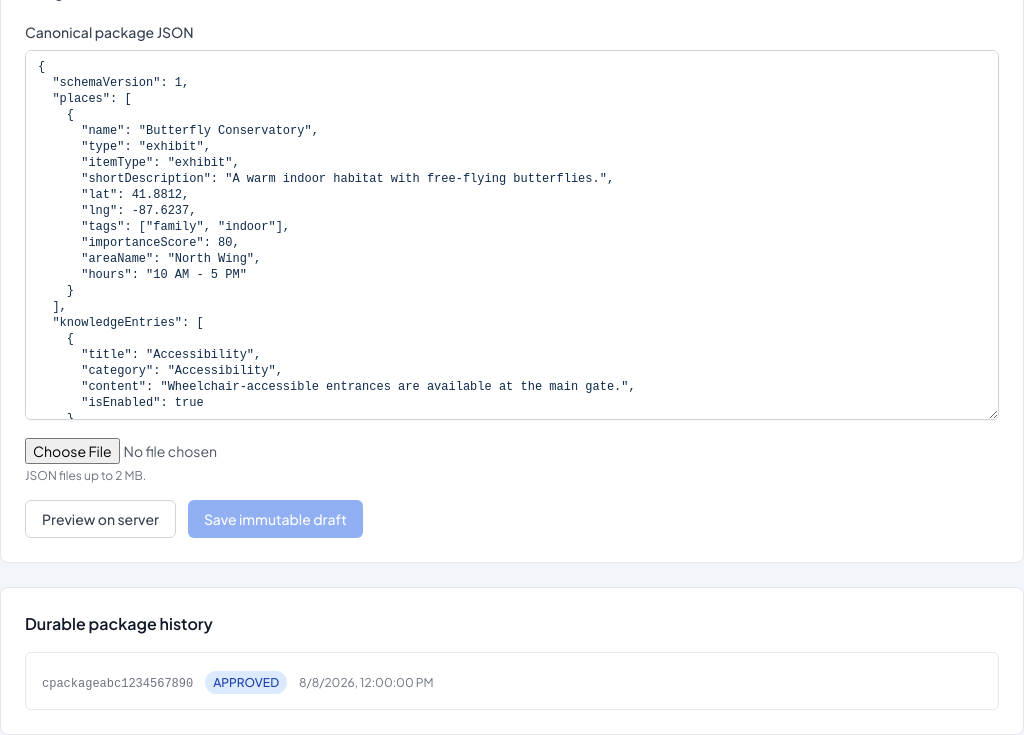
Scenario: venue package workspace › does not infer a conflict refresh from message text alone
(page scrolled)
Click the text "cpackageabc1234567890" at x=118, y=684, box [42,677,193,691]
(page scrolled)
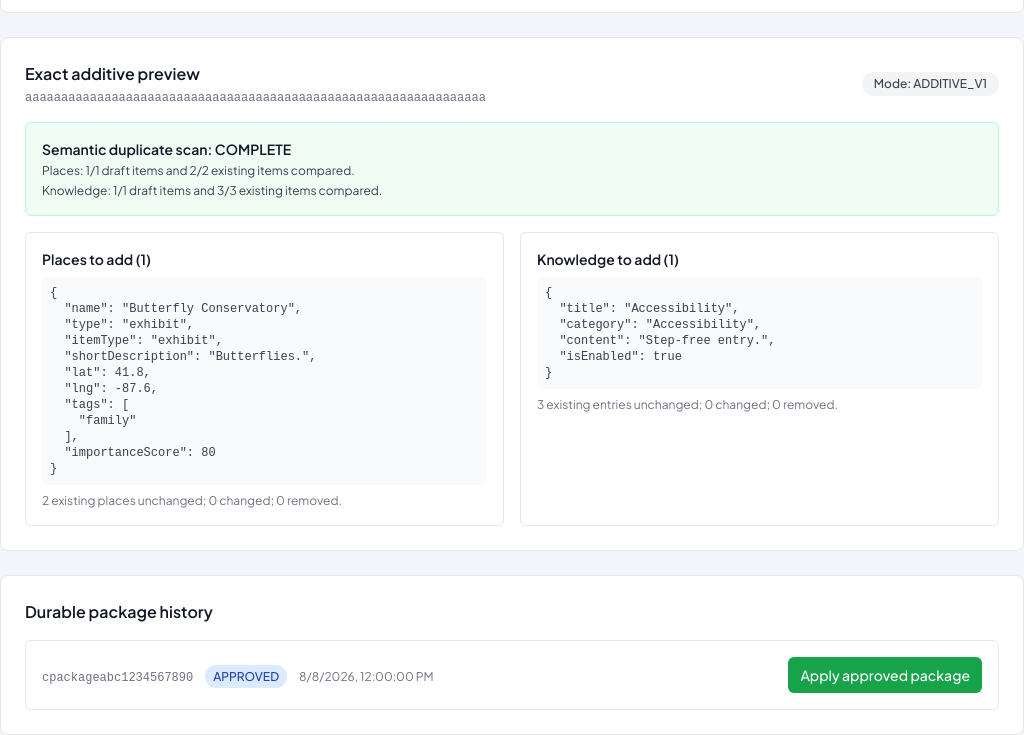
Click the button "Apply approved package" at x=885, y=675, box [788,657,982,693]
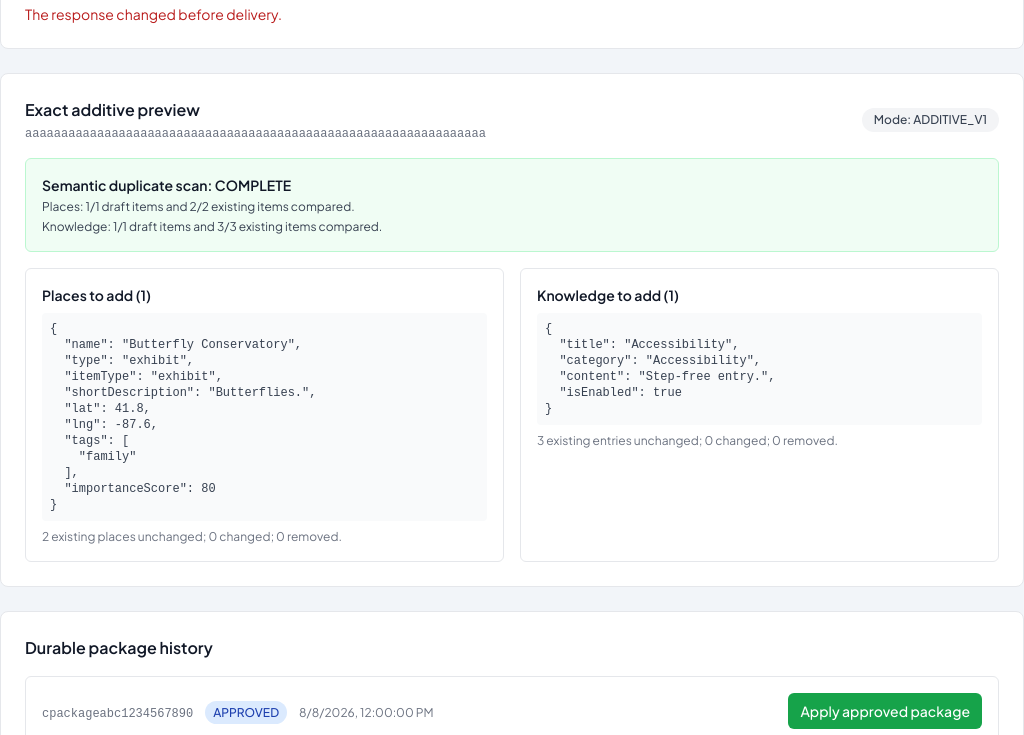
Check: the message shows "changed before delivery", box [25,5,282,23]
